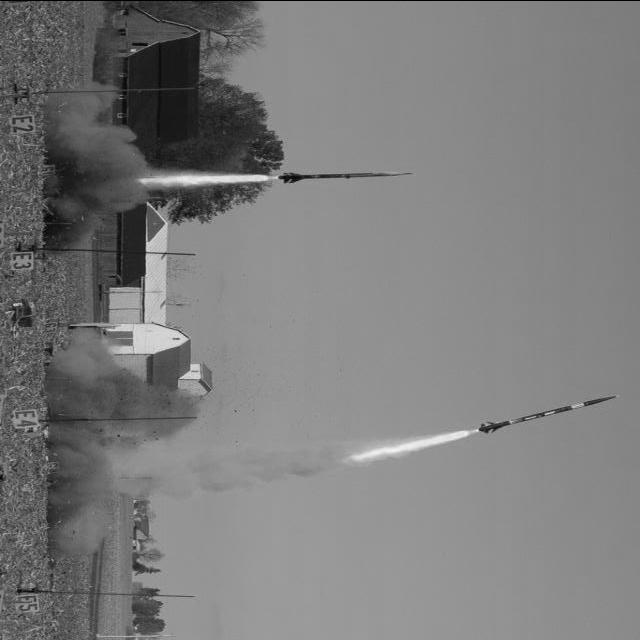missile: (481, 394, 623, 431), (280, 167, 412, 184)
